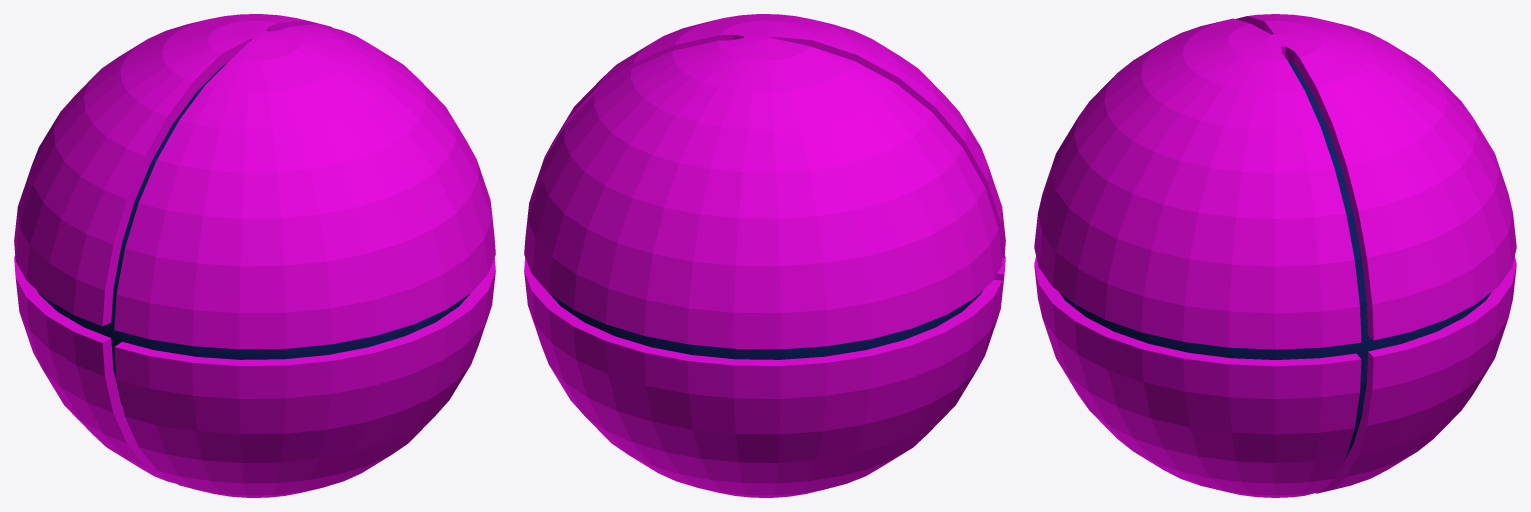
The model's file is Scrap03.fbx.
3 renders of one model, left to right at view 1: azimuth 30°, elevation 25°; view 2: azimuth 150°, elevation 25°; view 3: azimuth 270°, elevation 25°, orthographic.
Visible parts, largest first — view 1: Sphere; view 2: Sphere; view 3: Sphere.
Boxes of the visible parts, x1,y1,x2,y2 form: Sphere: (14, 14, 495, 497); Sphere: (524, 14, 1005, 497); Sphere: (1034, 14, 1516, 497).
Bounding box in the file's own units: 199 × 199 × 199.
